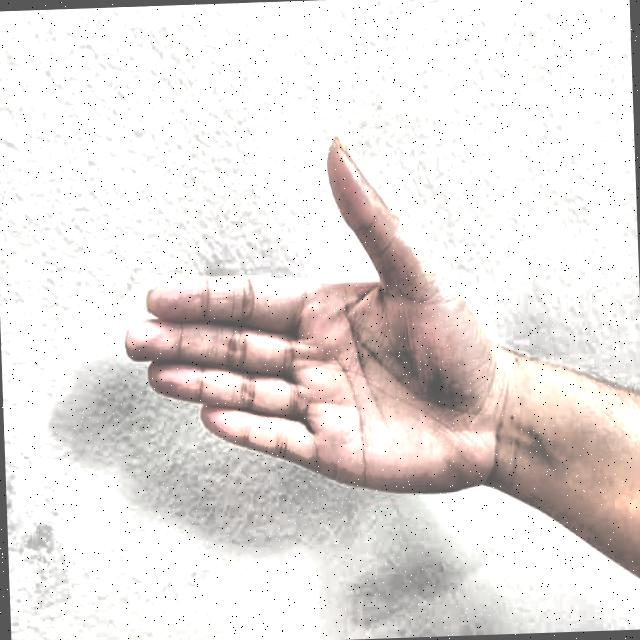Aa: (98, 118, 498, 544)
